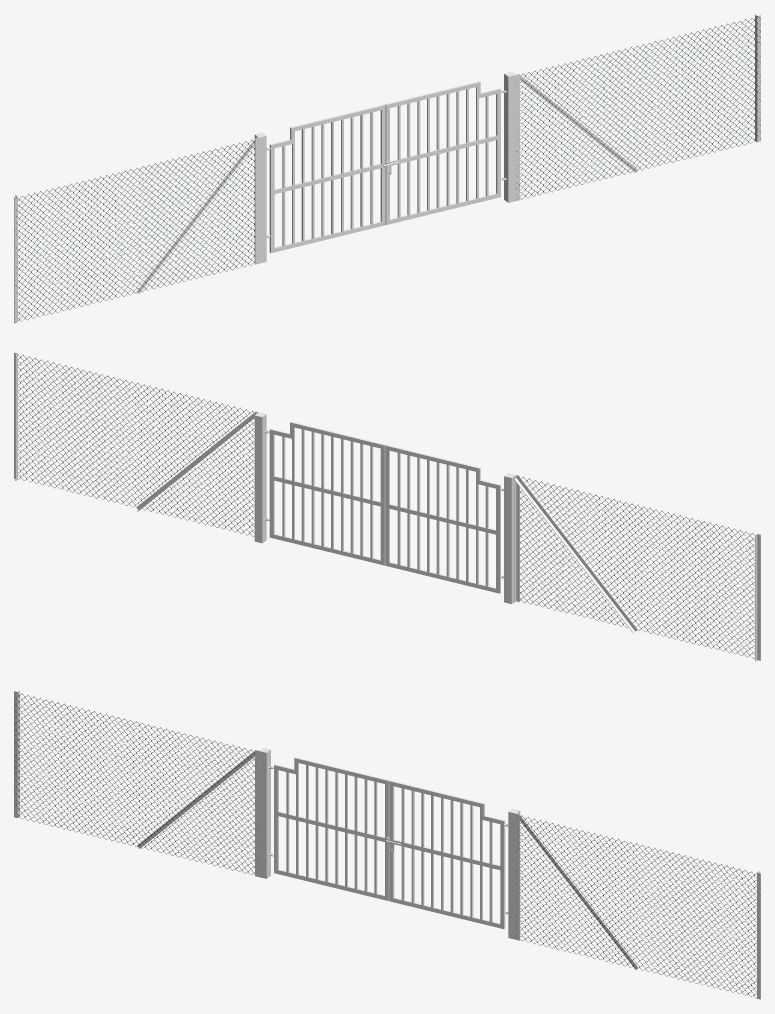
The model's file is gate-full.fbx.
3 renders of one model, top to bottom at view 1: azimuth 30°, elevation 25°; view 2: azimuth 150°, elevation 25°; view 3: azimuth 330°, elevation 25°, orthographic.
Parts seen in each view (by area): view 1: Model, Group22, Group50, Group52, Group24, Group58, Group61, Group60; view 2: Model, Group50, Group22, Group52, Group58, Group24, Group62, Group60, Group57; view 3: Model, Group50, Group22, Group24, Group52, Group60, Group62, Group58.
Boxes of the visible parts, x1,y1,x2,y2 form: Model: (14, 16, 760, 322); Group22: (269, 104, 385, 253); Group50: (385, 81, 500, 224); Group52: (504, 72, 515, 202); Group24: (254, 132, 266, 263); Group58: (136, 139, 254, 293); Group61: (755, 14, 760, 141); Group60: (520, 75, 637, 172); Model: (18, 354, 754, 658); Group50: (269, 421, 385, 565); Group22: (385, 445, 500, 593); Group52: (254, 412, 266, 543); Group58: (514, 476, 637, 633); Group24: (504, 473, 515, 603); Group62: (755, 533, 760, 661); Group60: (136, 411, 256, 511); Group57: (514, 475, 519, 602); Model: (14, 692, 760, 998); Group50: (389, 780, 505, 929); Group22: (274, 757, 389, 900); Group24: (259, 748, 270, 878); Group52: (508, 808, 520, 939); Group60: (520, 815, 638, 969); Group62: (14, 690, 19, 818); Group58: (137, 751, 254, 848).
Size of the model in its own units: 372 by 60.67 by 3.81.
